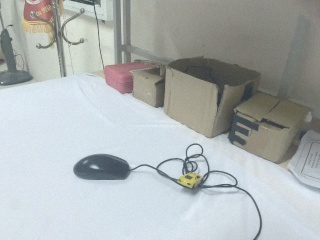box: (164, 55, 260, 139), (228, 91, 309, 164), (132, 66, 166, 108)
mouse: (73, 153, 130, 181)
toy_car: (177, 168, 204, 192)
